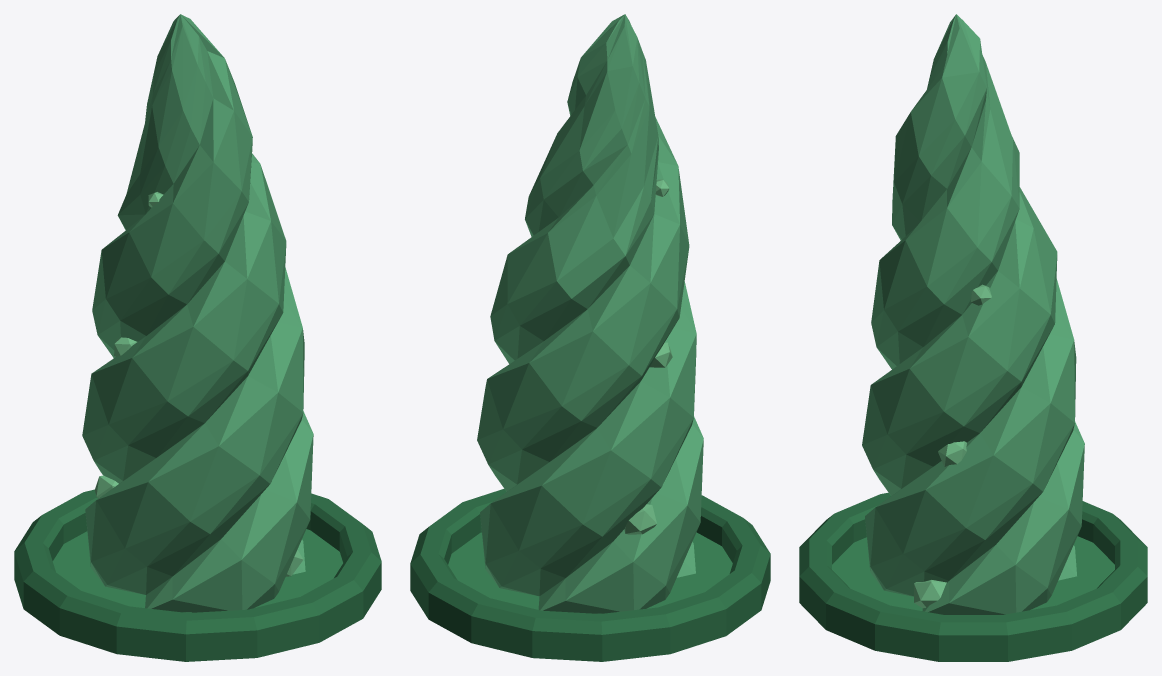
Rendered from spell-effect-marker-f9f911.glb.
3 renders of one model, left to right at view 1: azimuth 30°, elevation 25°; view 2: azimuth 150°, elevation 25°; view 3: azimuth 270°, elevation 25°, orthographic. The views are drawn at different scales.
Visible parts, largest first — view 1: resin, base; view 2: resin, base; view 3: resin, base.
Part boxes in pixels (x1=…): resin: x1=14, y1=14, x2=381, y2=661; base: x1=52, y1=529, x2=342, y2=612; resin: x1=410, y1=14, x2=770, y2=661; base: x1=448, y1=532, x2=732, y2=613; resin: x1=799, y1=14, x2=1147, y2=661; base: x1=832, y1=536, x2=1114, y2=610.
Size of the model in its own units: 0.032 by 0.057 by 0.032.
